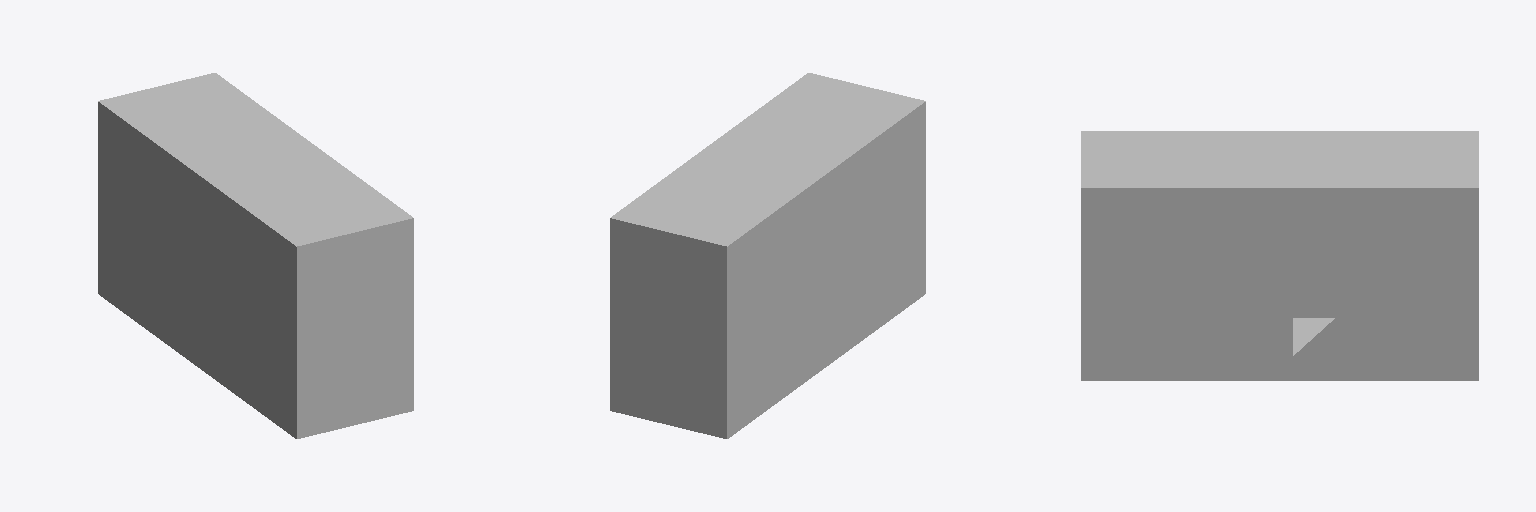
The model's file is Shelf.obj.
3 renders of one model, left to right at view 1: azimuth 30°, elevation 25°; view 2: azimuth 150°, elevation 25°; view 3: azimuth 270°, elevation 25°, orthographic.
Visible parts, largest first — view 1: Cube; view 2: Cube; view 3: Cube.
Part boxes in pixels (x1,y1,x2,y2): Cube: (98,73,413,438); Cube: (610,73,925,438); Cube: (1081,131,1478,380).
Bounding box in the file's own units: 1.28 × 2 × 3.74.